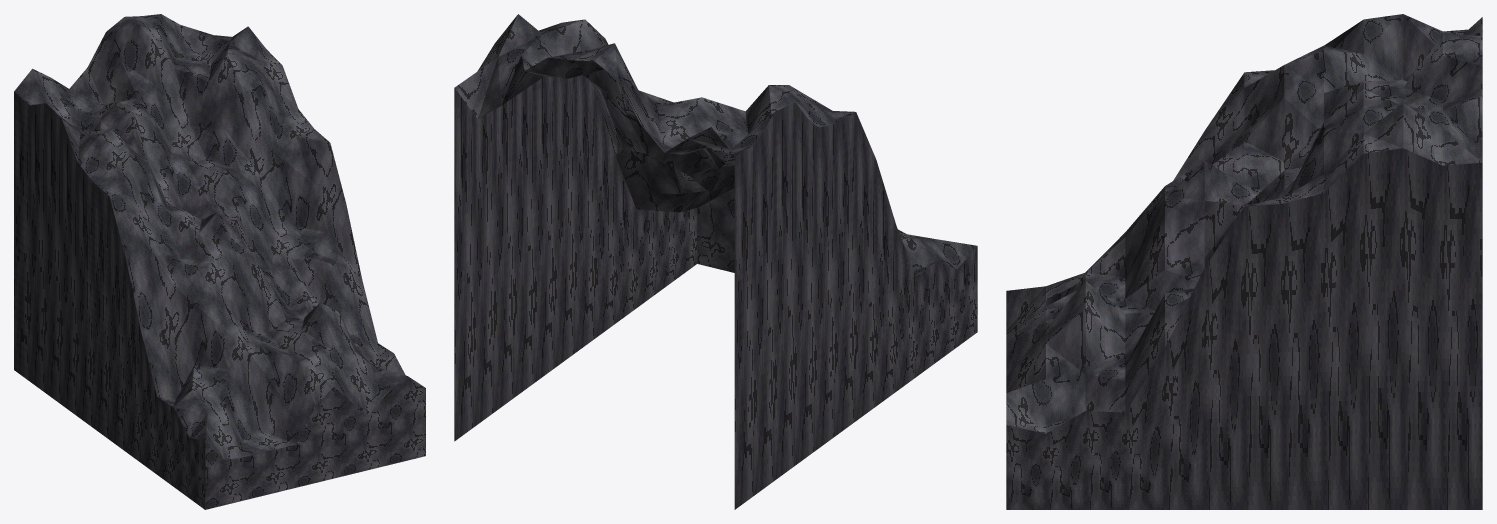
Rendered from monte_ladera.obj.
3 renders of one model, left to right at view 1: azimuth 30°, elevation 25°; view 2: azimuth 150°, elevation 25°; view 3: azimuth 270°, elevation 25°, orthographic. The views are drawn at different scales.
Visible parts, largest first — view 1: monte_ladera; view 2: monte_ladera; view 3: monte_ladera.
Part boxes in pixels (x1=…): monte_ladera: x1=14, y1=14, x2=425, y2=509; monte_ladera: x1=454, y1=14, x2=977, y2=509; monte_ladera: x1=1006, y1=14, x2=1482, y2=509.
Size of the model in its own units: 24.01 by 34.19 by 36.01.
Materials: 1 (1 with a texture image).
